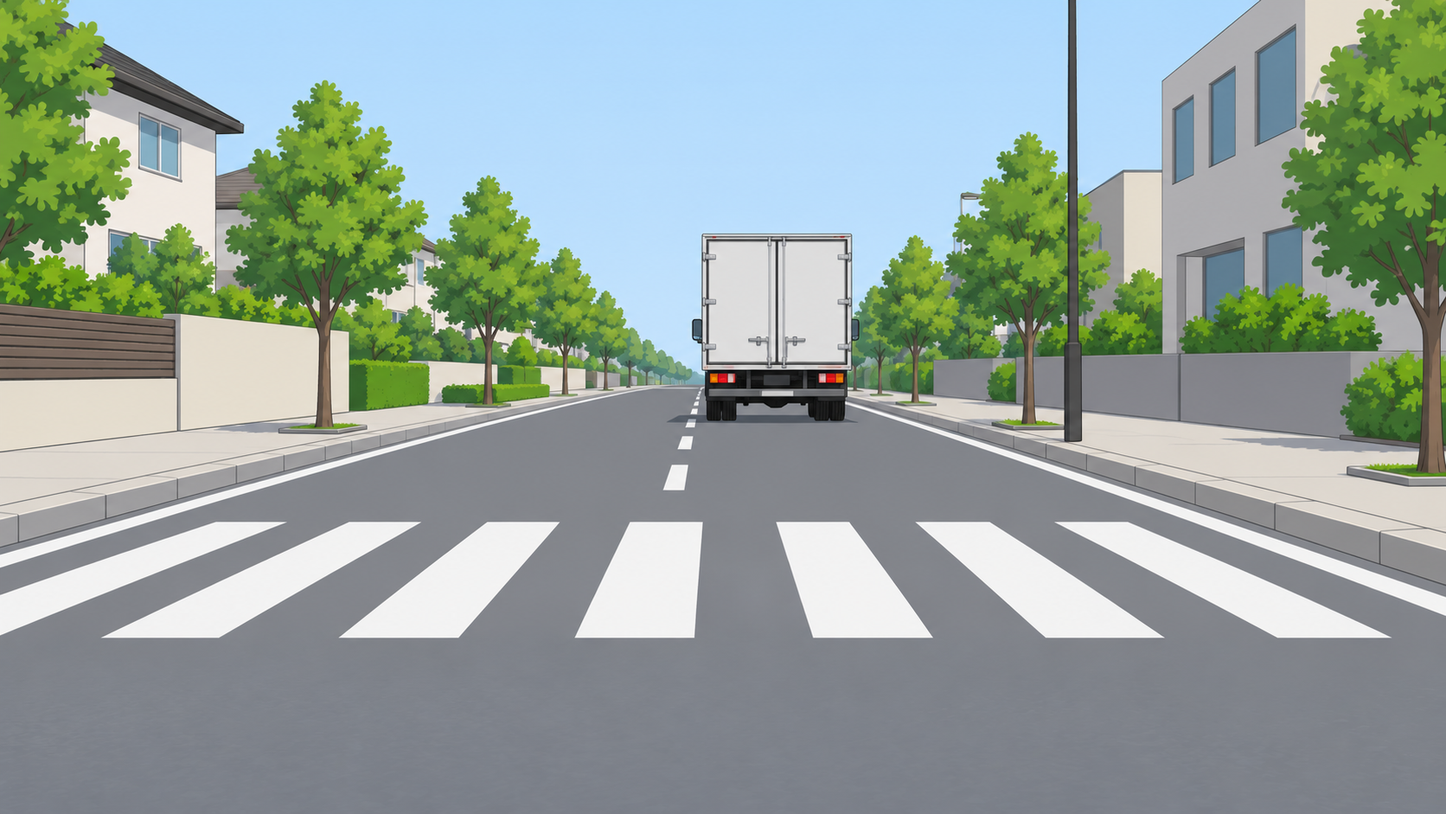truck: (701, 234, 858, 421)
zebra_crossing: (0, 495, 1446, 637)
